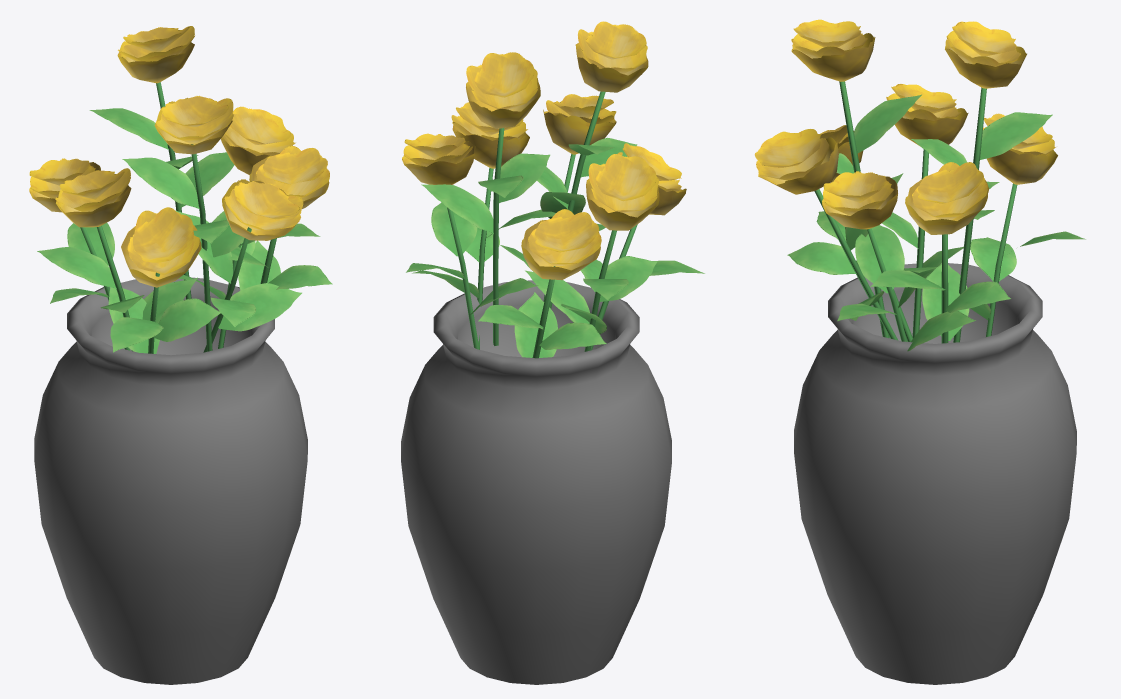
Rendered from SM_flowerpot_03.fbx.
3 renders of one model, left to right at view 1: azimuth 30°, elevation 25°; view 2: azimuth 150°, elevation 25°; view 3: azimuth 270°, elevation 25°, orthographic. The views are drawn at different scales.
Visible parts, largest first — view 1: Cylinder072; view 2: Cylinder072; view 3: Cylinder072.
Part boxes in pixels (x1,y1,x2,y2): Cylinder072: [29, 26, 332, 684]; Cylinder072: [401, 21, 704, 684]; Cylinder072: [754, 19, 1085, 684].
Size of the model in its own units: 31.57 by 64.1 by 33.1.
